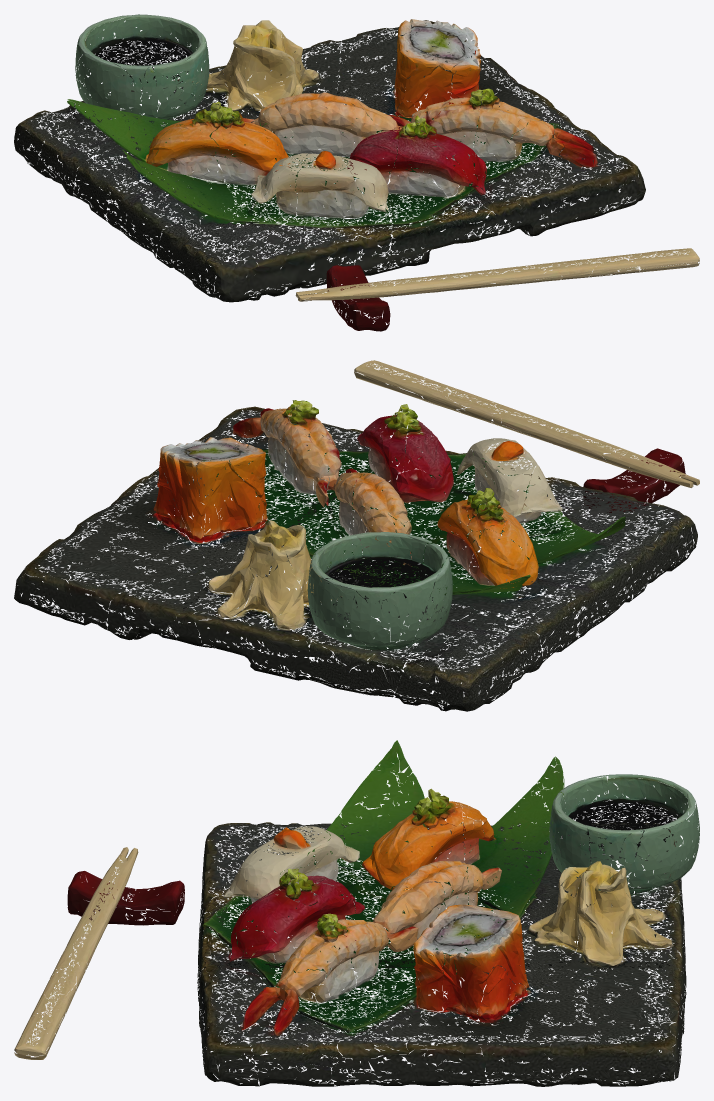
The model's file is sushi-platter.glb.
3 renders of one model, top to bottom at view 1: azimuth 30°, elevation 25°; view 2: azimuth 150°, elevation 25°; view 3: azimuth 270°, elevation 25°, orthographic. The views are drawn at different scales.
Visible parts, largest first — view 1: world; view 2: world; view 3: world.
Boxes of the visible parts, x1,y1,x2,y2 form: world: [14, 14, 699, 331]; world: [14, 360, 699, 711]; world: [14, 740, 699, 1086].
Size of the model in its own units: 0.2643 by 0.0654 by 0.3201.
1 material, 1 textured.
